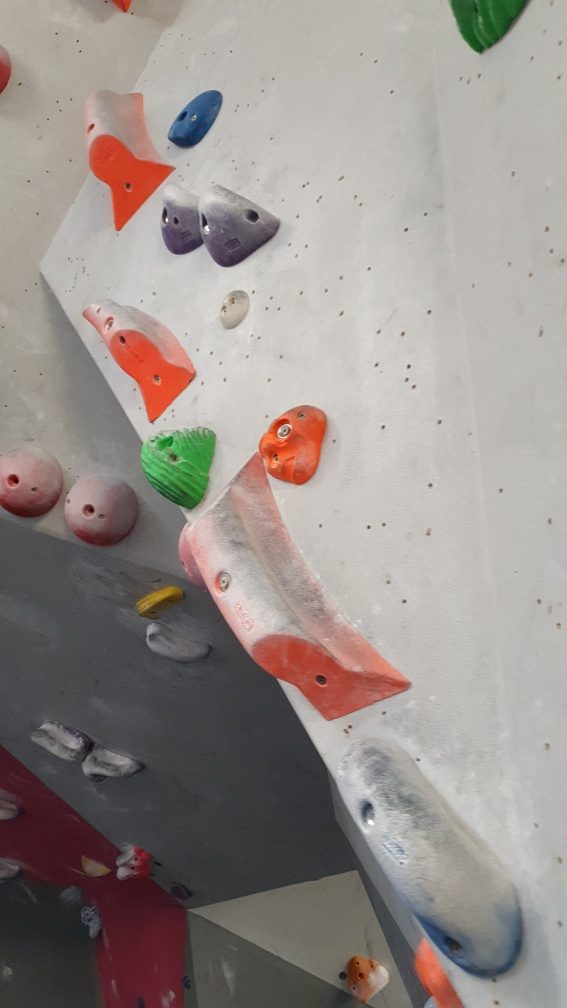Jug: (200, 184, 282, 263), (142, 428, 221, 510), (259, 403, 333, 487), (158, 180, 203, 259)
Pinch: (180, 451, 413, 720), (333, 725, 526, 987), (79, 296, 196, 425), (83, 85, 175, 231)
Sloper: (64, 472, 142, 548), (1, 437, 65, 524)
